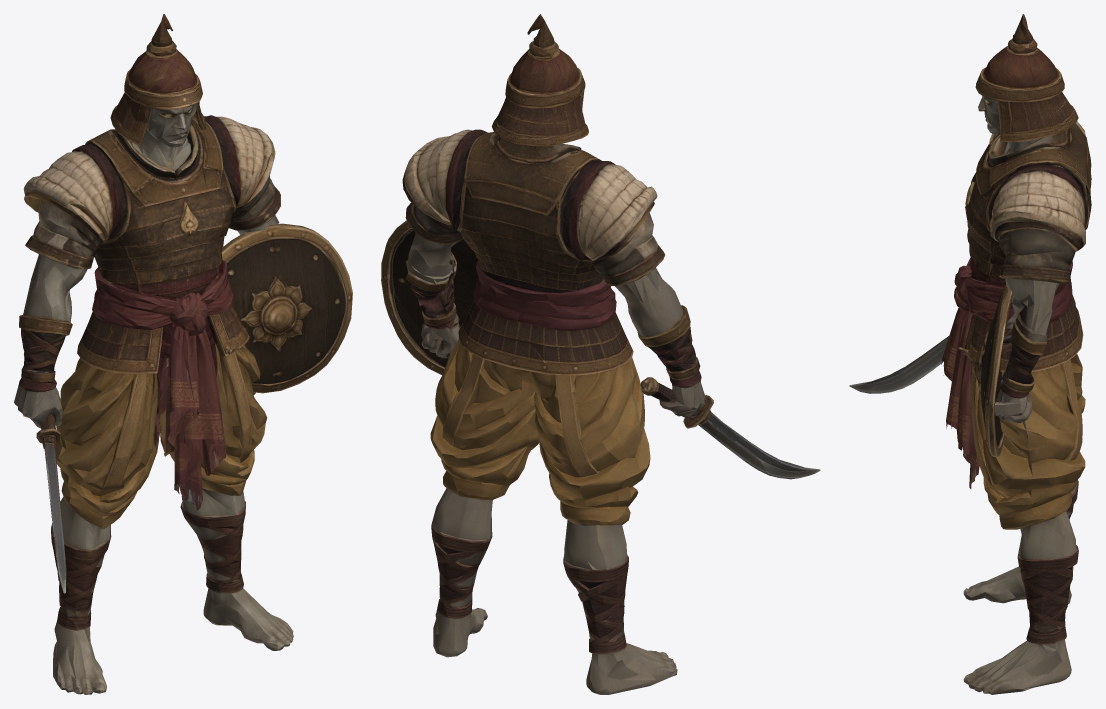
The model's file is soldier.glb.
The picture shows the model from 3 angles, left to right: view 1: azimuth 30°, elevation 25°; view 2: azimuth 150°, elevation 25°; view 3: azimuth 270°, elevation 25°; orthographic projection. The views are drawn at different scales.
Visible parts, largest first — view 1: soldierSource; view 2: soldierSource; view 3: soldierSource.
Boxes of the visible parts, x1,y1,x2,y2 form: soldierSource: (14, 14, 352, 694); soldierSource: (381, 14, 820, 694); soldierSource: (849, 14, 1091, 694).
Bounding box in the file's own units: 1.13 × 1.9 × 0.6633.
Materials: 1 (1 with a texture image).
